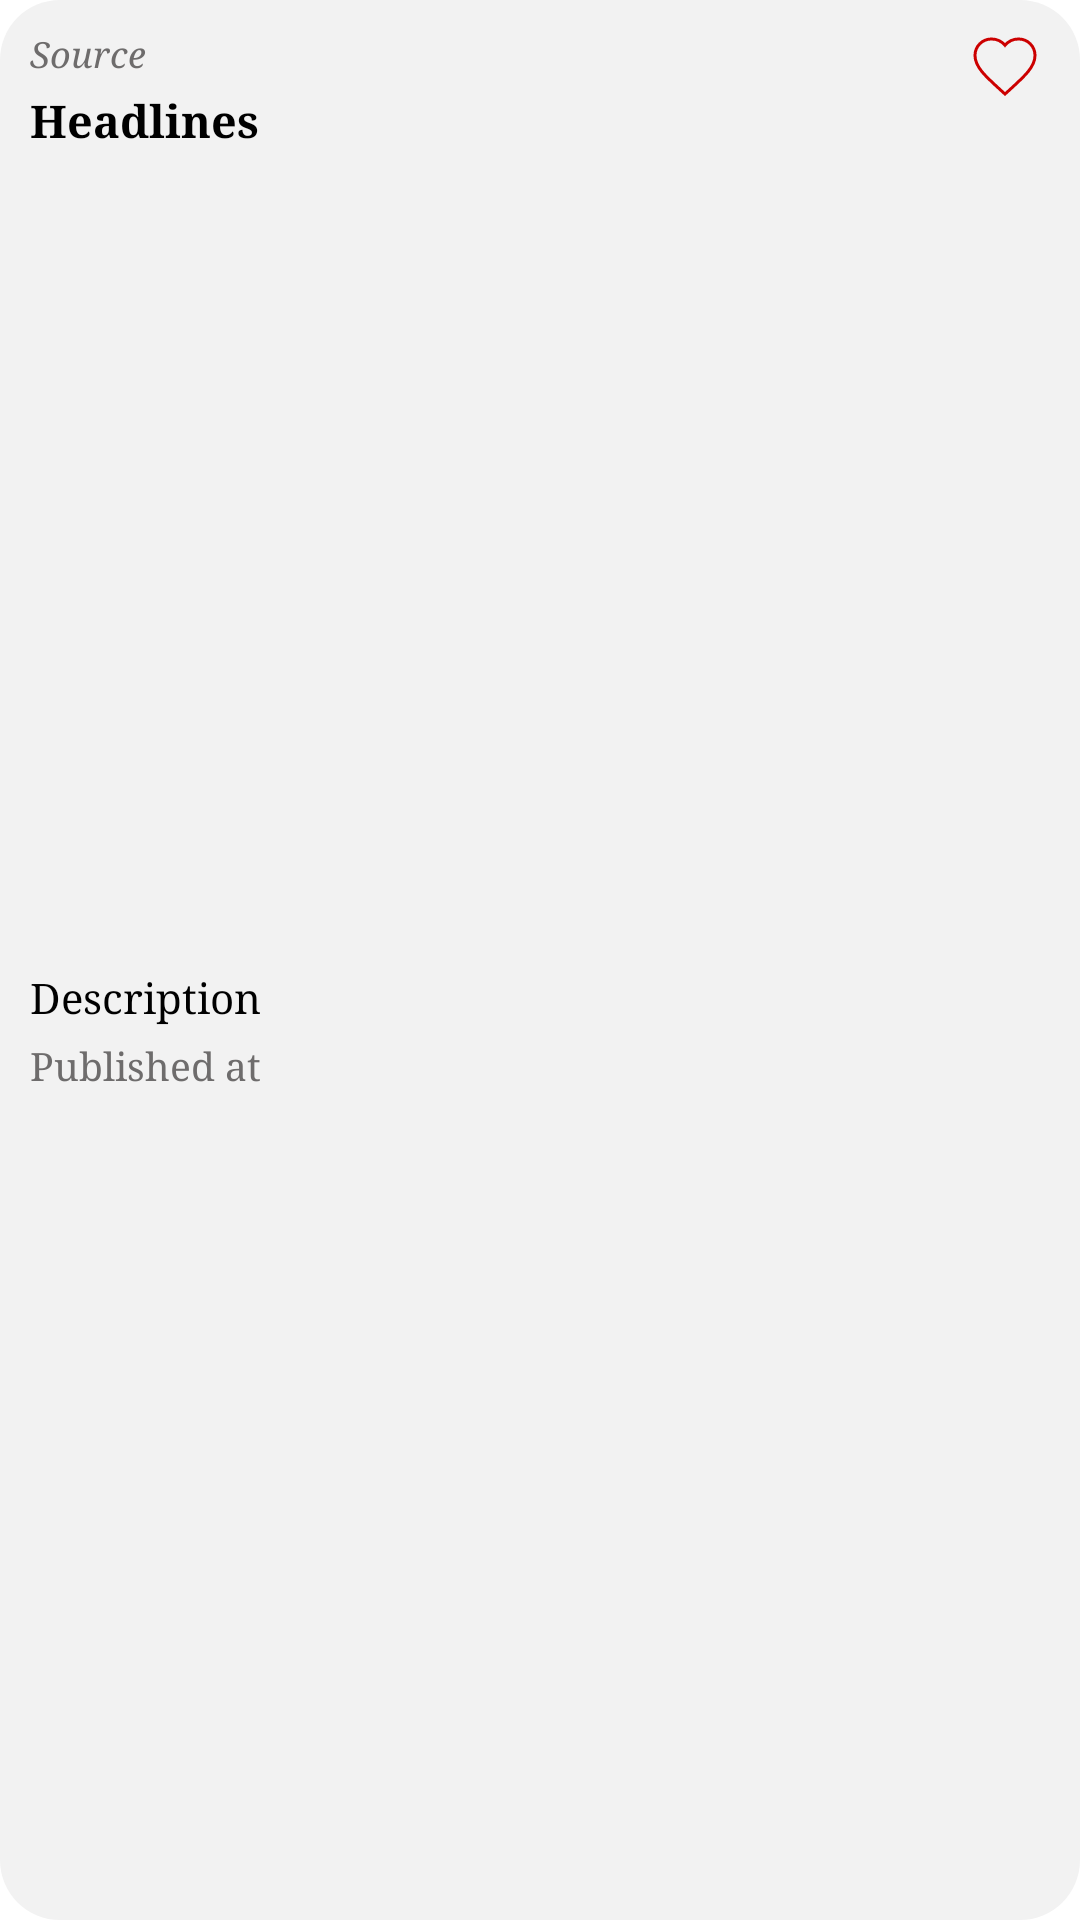

Screen size 1080*1920. Icon name, then its center in pixels as [x,y]:
favorite: [1005,66]
